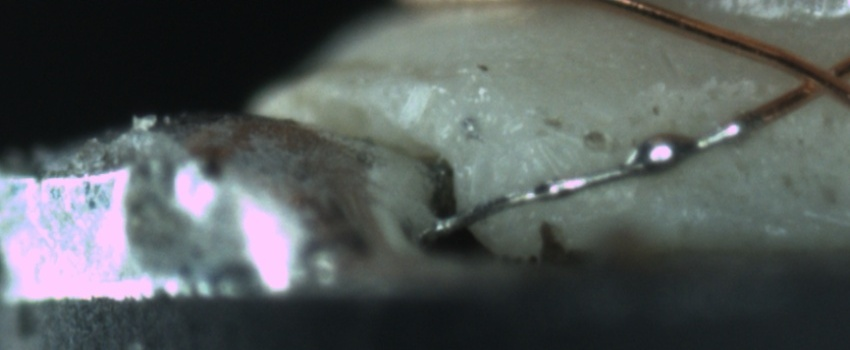CL: (777, 48, 848, 108)
TB: (625, 130, 705, 179)
TS: (435, 114, 752, 231)
TTCW: (430, 93, 792, 236)
